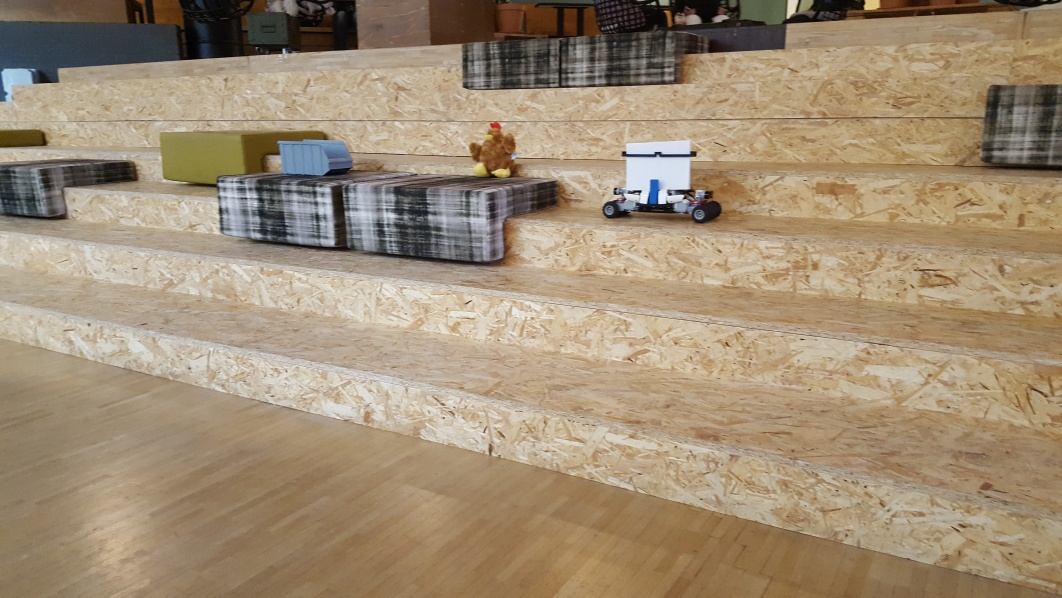beam: (646, 177, 662, 211)
chicken: (468, 121, 519, 178)
tray: (277, 140, 352, 177)
